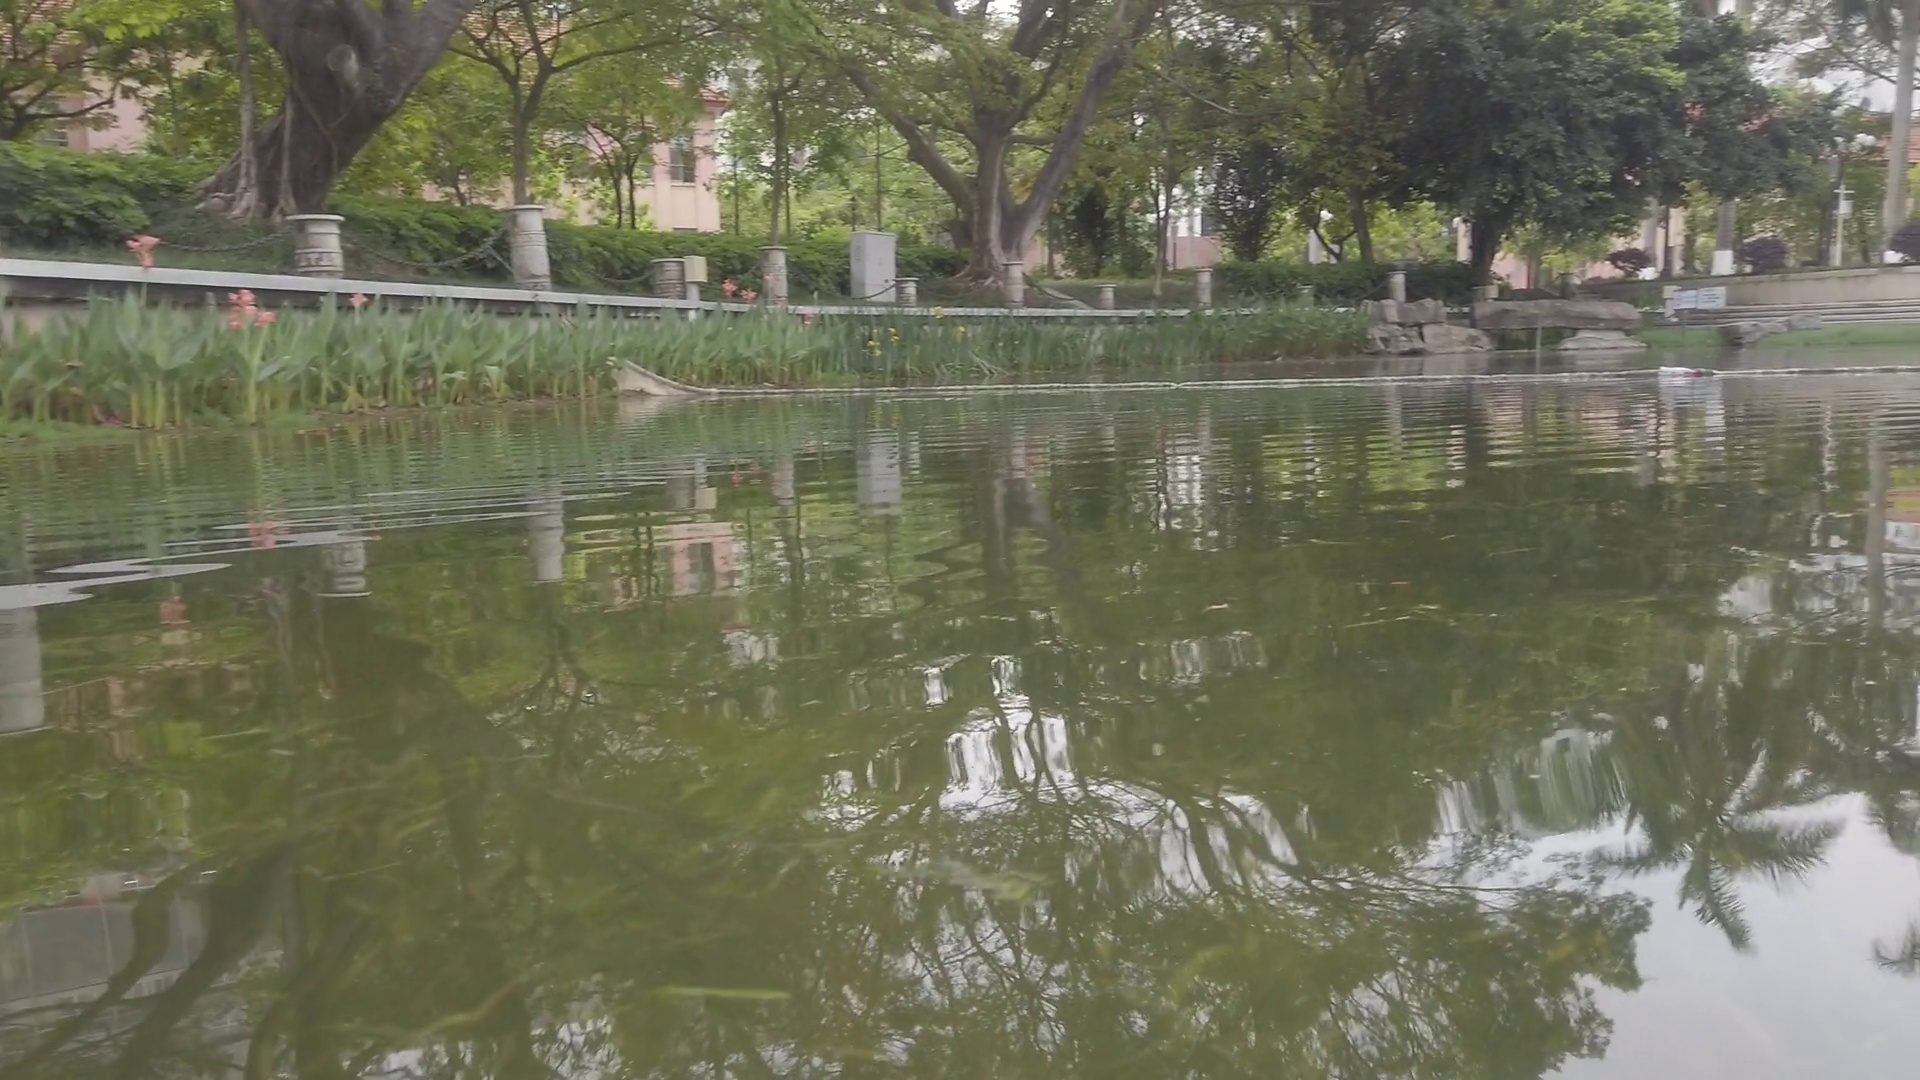bottle: (1658, 364, 1702, 378)
